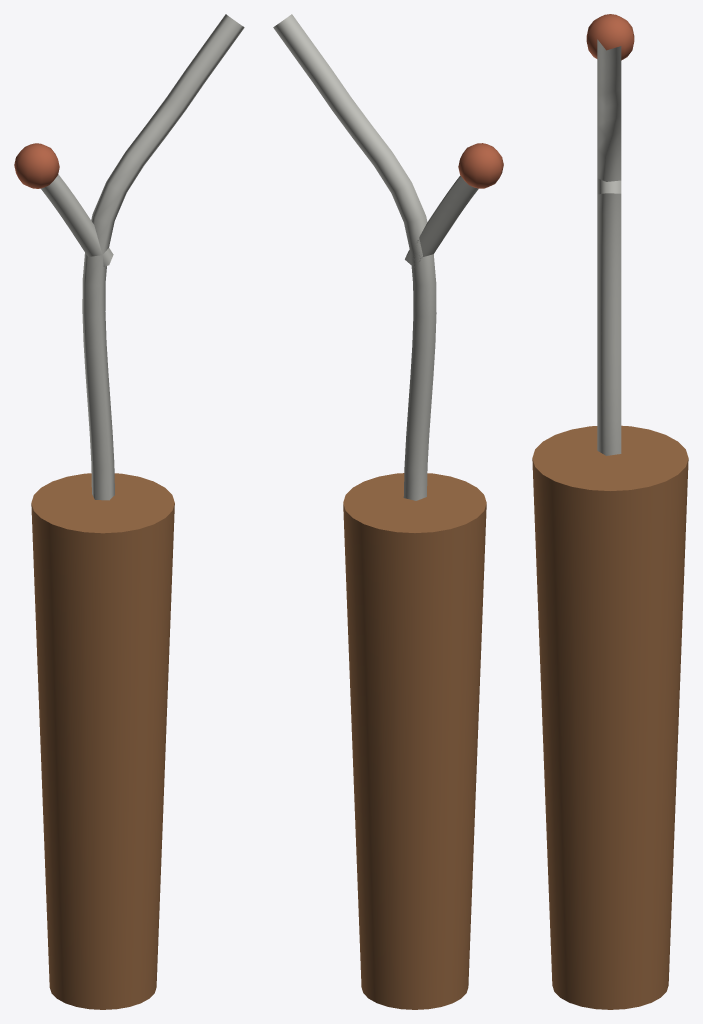
File: seam-ripper.glb
The picture shows the model from 3 angles, left to right: view 1: azimuth 30°, elevation 25°; view 2: azimuth 150°, elevation 25°; view 3: azimuth 270°, elevation 25°; orthographic projection. The views are drawn at different scales.
Visible parts, largest first — view 1: wooden-handle, ripper-hook, ripper-fork, clay-safety-tip; view 2: wooden-handle, ripper-hook, ripper-fork, clay-safety-tip; view 3: wooden-handle, ripper-hook, clay-safety-tip.
Boxes of the visible parts, <box> form: wooden-handle: <box>31,473,174,1009</box>; ripper-hook: <box>82,14,244,500</box>; ripper-fork: <box>40,174,113,266</box>; clay-safety-tip: <box>14,143,59,188</box>; wooden-handle: <box>343,473,486,1009</box>; ripper-hook: <box>273,14,436,500</box>; ripper-fork: <box>405,175,478,267</box>; clay-safety-tip: <box>458,143,503,188</box>; wooden-handle: <box>532,425,688,1009</box>; ripper-hook: <box>597,39,621,455</box>; clay-safety-tip: <box>586,14,634,60</box>.
Size of the model in its own units: 0.1707 by 0.6801 by 0.094.
